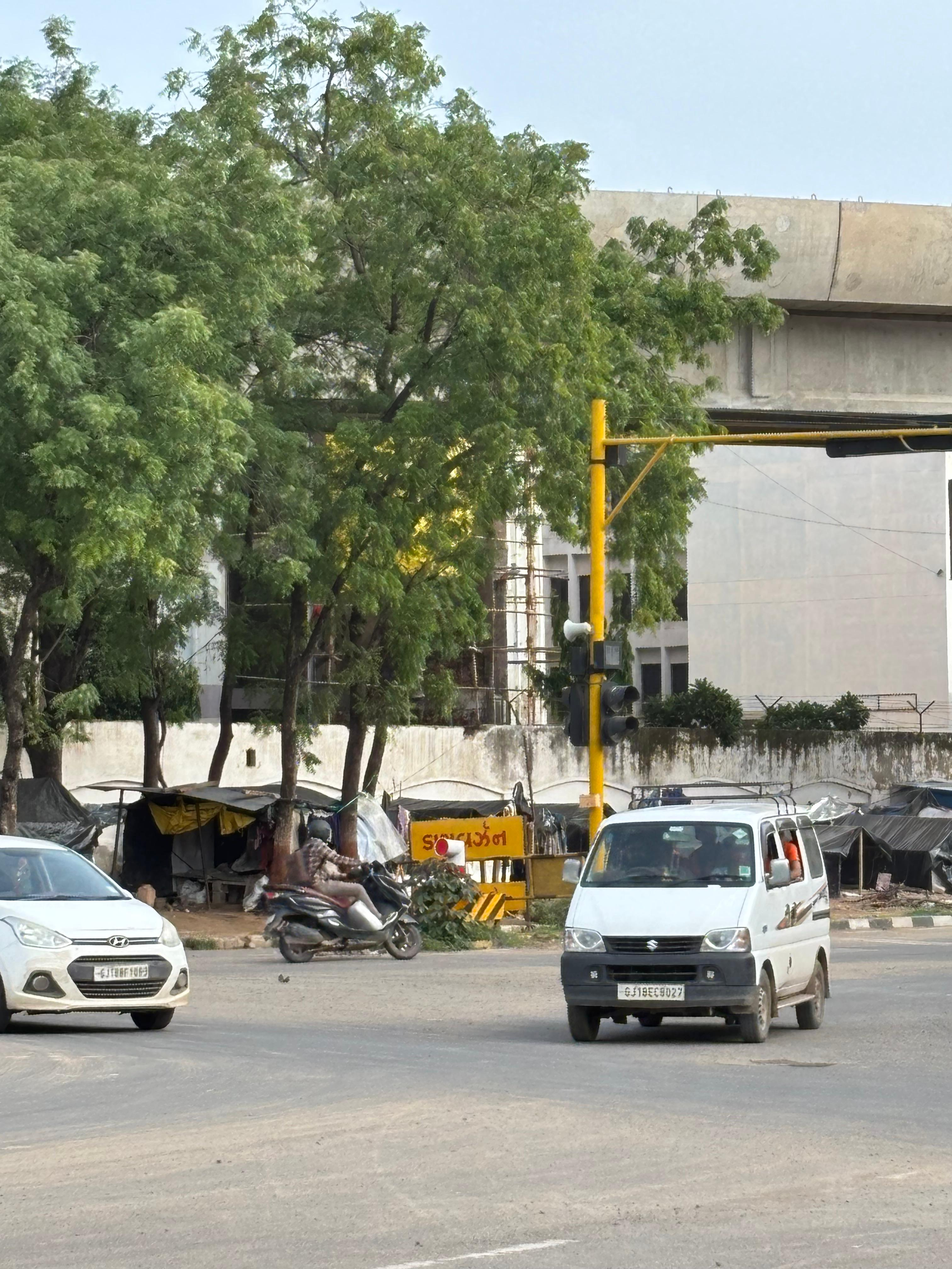BikeWithRider: (243, 804, 439, 976)
Helmet: (302, 813, 341, 850)
